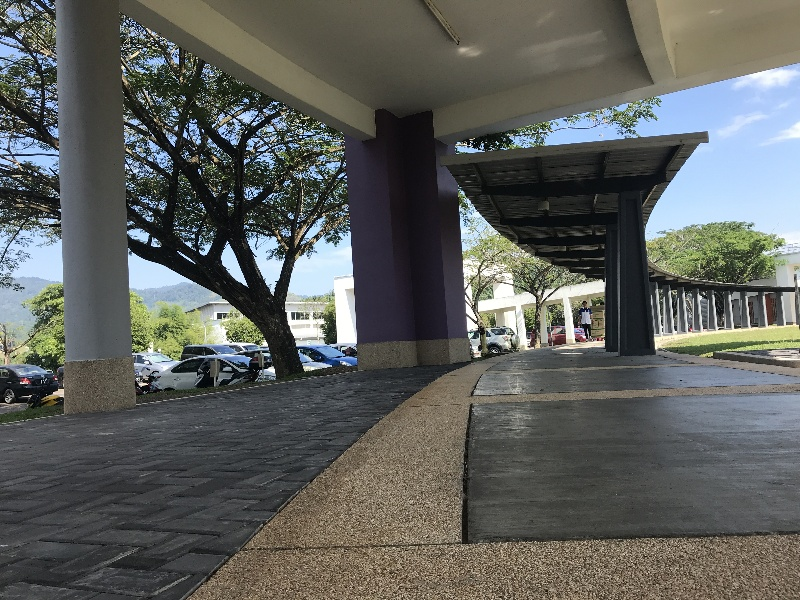Block D corridor: (5, 6, 791, 597)
pillar: (322, 93, 482, 371), (48, 3, 146, 405), (598, 190, 655, 365)
